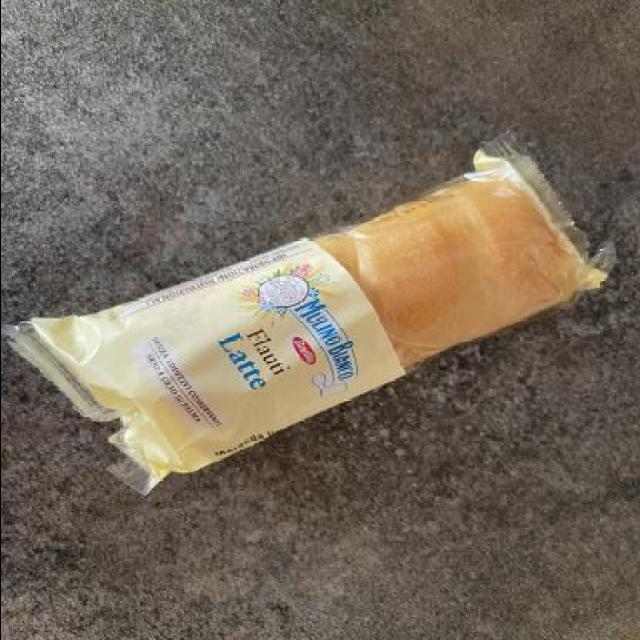Merendine packaged: (22, 147, 610, 498)
